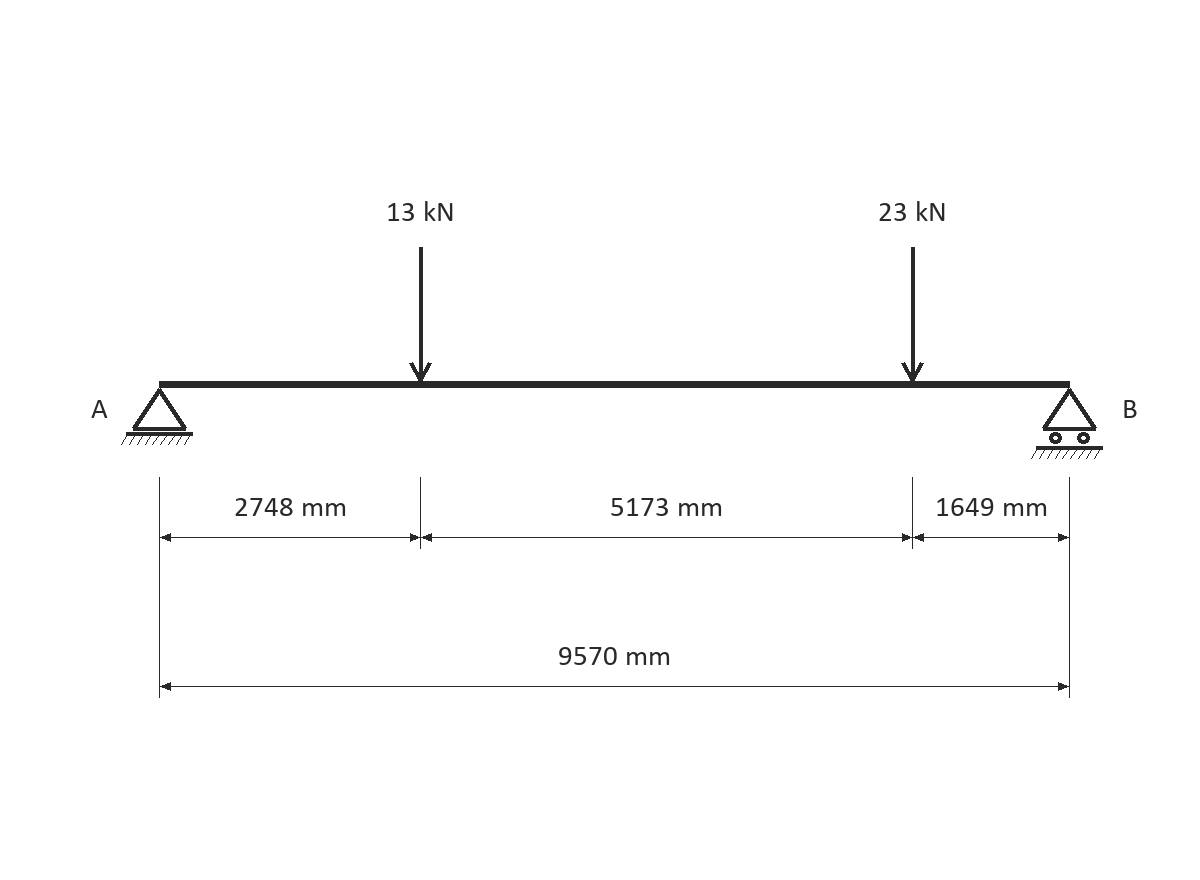pin_support: (121, 388, 193, 445)
point_load: (409, 247, 432, 382), (901, 247, 924, 382)
roller_support: (1031, 388, 1103, 459)
